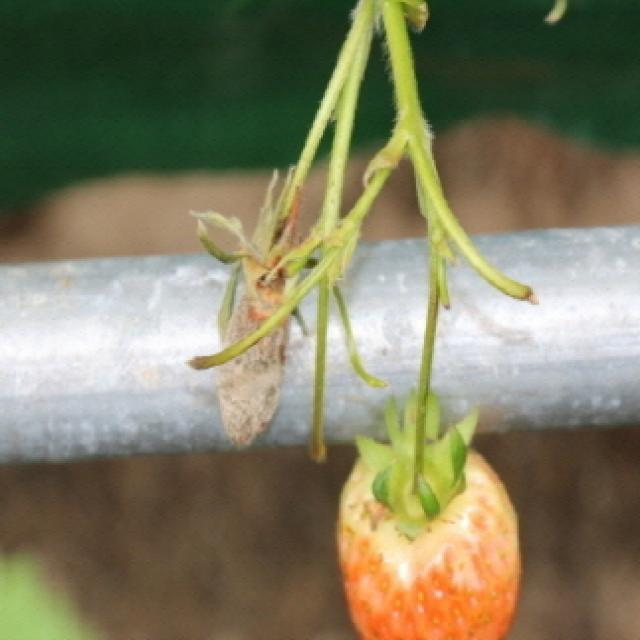Gray Mold: (219, 192, 300, 444)
